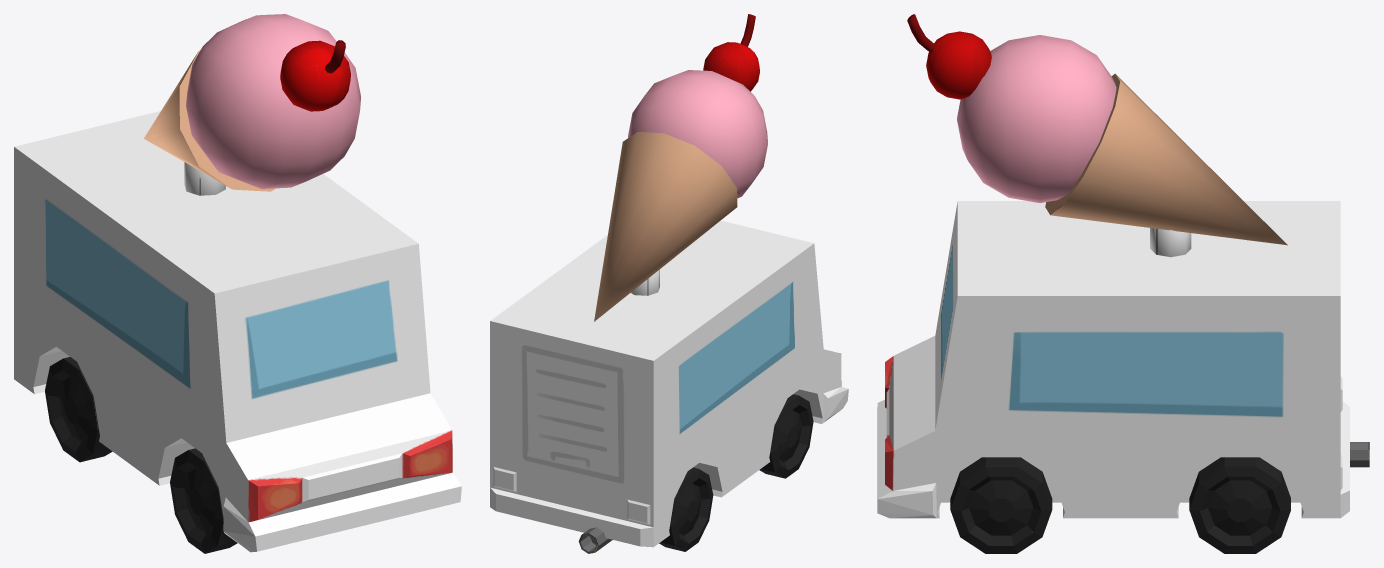
The model's file is truck.fbx.
3 views of the same model, side by side, from view 1: azimuth 30°, elevation 25°; view 2: azimuth 150°, elevation 25°; view 3: azimuth 270°, elevation 25° (orthographic). The views are drawn at different scales.
Visible parts, largest first — view 1: truck; view 2: truck; view 3: truck.
Boxes of the visible parts, bbox=[...] form: truck: bbox=[14, 14, 461, 553]; truck: bbox=[490, 14, 848, 553]; truck: bbox=[877, 14, 1369, 553].
Bounding box in the file's own units: 208 × 484 × 437.
Materials: 2 (2 with a texture image).
